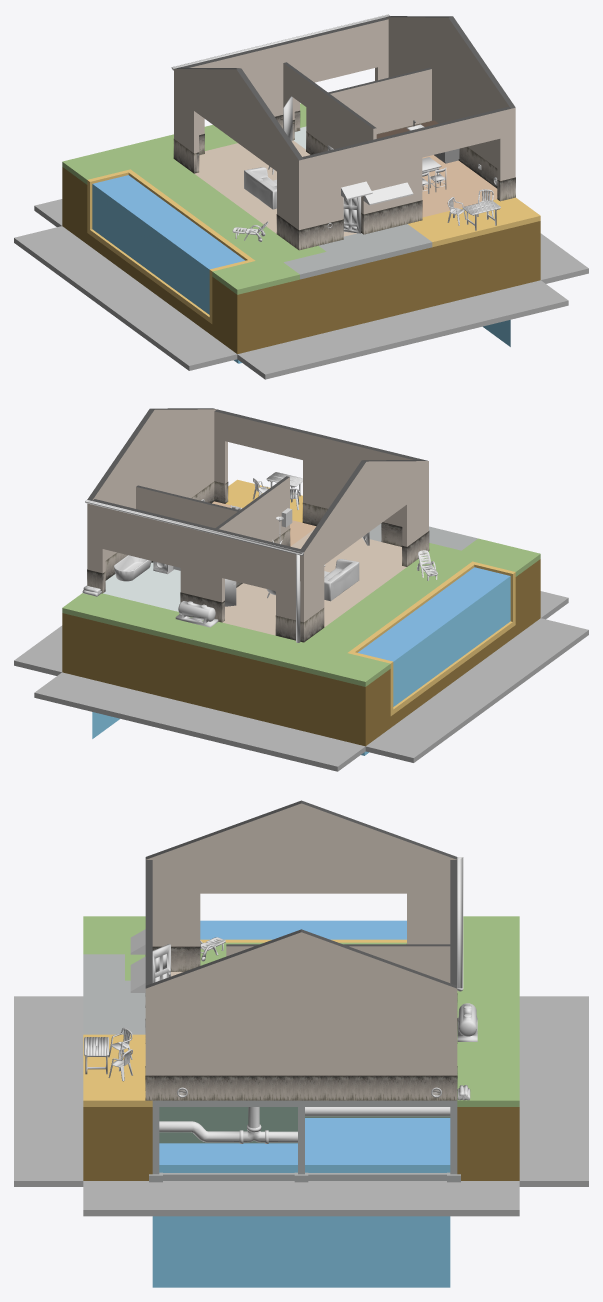
The model's file is Maquette_v1.glb.
3 renders of one model, top to bottom at view 1: azimuth 30°, elevation 25°; view 2: azimuth 150°, elevation 25°; view 3: azimuth 270°, elevation 25°, orthographic. The views are drawn at different scales.
Parts seen in each view (by area): view 1: structure_murs, exterieur_terrain, maquette_bordure, structure_cloisons, eau_piscine_cote, eau_piscine, salon_sol, structure_salissure_exterieure, exterieur_piscine, cuisine_sol, structure_salissure_interieure, exterieur_appentis (+6 smaller); view 2: exterieur_terrain, structure_murs, maquette_bordure, eau_piscine_cote, salon_sol, structure_cloisons, eau_piscine, exterieur_piscine, sdb_sol, structure_salissure_exterieure, structure_salissure_interieure, exterieur_gouttiere (+4 smaller); view 3: structure_murs, maquette_bordure, exterieur_terrain, eau_interieur_cote, eau_interieur, structure_salissure_exterieure, eau_piscine, exterieur_tuyaux, structure_cloisons, exterieur_table_et_chaises, exterieur_gouttiere, exterieur_appentis (+3 smaller).
Part boxes in pixels (x1=…): structure_murs: x1=174, y1=16, x2=515, y2=249; exterieur_terrain: x1=62, y1=103, x2=540, y2=353; maquette_bordure: x1=14, y1=199, x2=588, y2=379; structure_cloisons: x1=283, y1=62, x2=431, y2=153; eau_piscine_cote: x1=92, y1=184, x2=209, y2=314; eau_piscine: x1=93, y1=175, x2=244, y2=269; salon_sol: x1=194, y1=140, x2=356, y2=236; structure_salissure_exterieure: x1=173, y1=139, x2=515, y2=250; exterieur_piscine: x1=87, y1=169, x2=255, y2=323; cuisine_sol: x1=422, y1=155, x2=497, y2=217; structure_salissure_interieure: x1=196, y1=110, x2=498, y2=233; exterieur_appentis: x1=341, y1=181, x2=413, y2=205; exterieur_terrain: x1=62, y1=479, x2=540, y2=746; structure_murs: x1=87, y1=408, x2=428, y2=640; maquette_bordure: x1=14, y1=591, x2=588, y2=771; eau_piscine_cote: x1=393, y1=576, x2=510, y2=706; salon_sol: x1=222, y1=529, x2=406, y2=635; structure_cloisons: x1=136, y1=476, x2=289, y2=585; eau_piscine: x1=358, y1=567, x2=509, y2=661; exterieur_piscine: x1=348, y1=561, x2=515, y2=715; sdb_sol: x1=103, y1=562, x2=180, y2=611; structure_salissure_exterieure: x1=87, y1=482, x2=429, y2=642; structure_salissure_interieure: x1=104, y1=481, x2=404, y2=620; exterieur_gouttiere: x1=85, y1=500, x2=303, y2=642; structure_murs: x1=145, y1=800, x2=457, y2=1100; maquette_bordure: x1=14, y1=996, x2=588, y2=1216; exterieur_terrain: x1=83, y1=916, x2=519, y2=1182; eau_interieur_cote: x1=152, y1=1165, x2=450, y2=1287; eau_interieur: x1=159, y1=1118, x2=450, y2=1164; structure_salissure_exterieure: x1=145, y1=944, x2=457, y2=1100; eau_piscine: x1=200, y1=920, x2=406, y2=939; exterieur_tuyaux: x1=159, y1=1107, x2=450, y2=1143; structure_cloisons: x1=226, y1=944, x2=450, y2=982; exterieur_table_et_chaises: x1=84, y1=1027, x2=132, y2=1081; exterieur_gouttiere: x1=457, y1=857, x2=463, y2=991; exterieur_appentis: x1=130, y1=929, x2=145, y2=992.
Bounding box in the file's own units: 16.6 × 11.36 × 16.6.
Materials: 20 (4 with a texture image).
